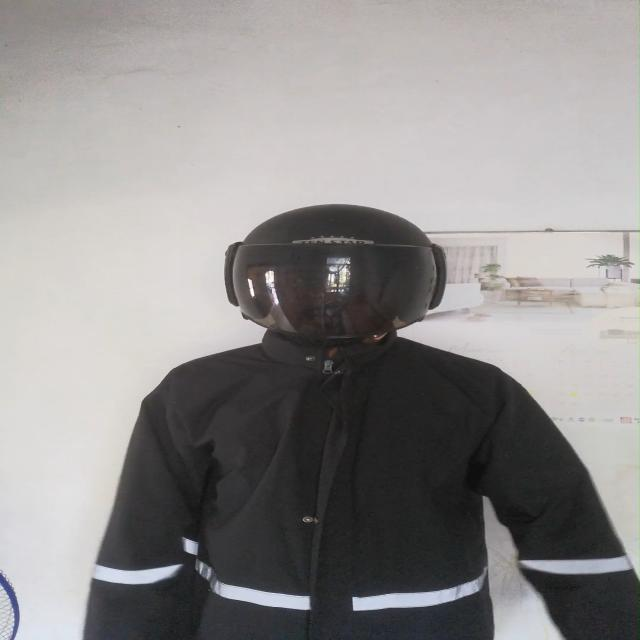Helmet_Wearer: (212, 200, 455, 372)
Jacket_Wearer: (81, 314, 640, 640)
Person: (65, 204, 622, 640)
